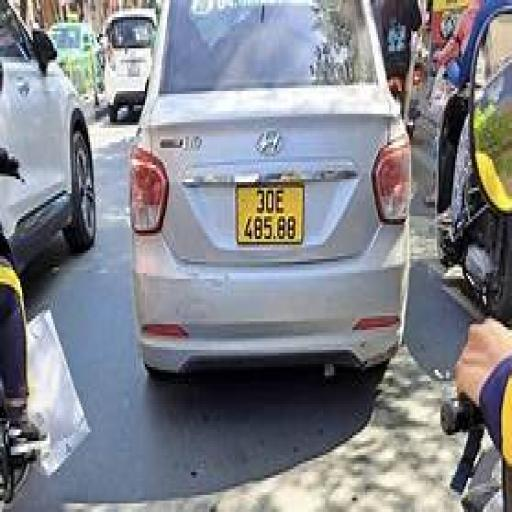place: (238, 189, 302, 241)
